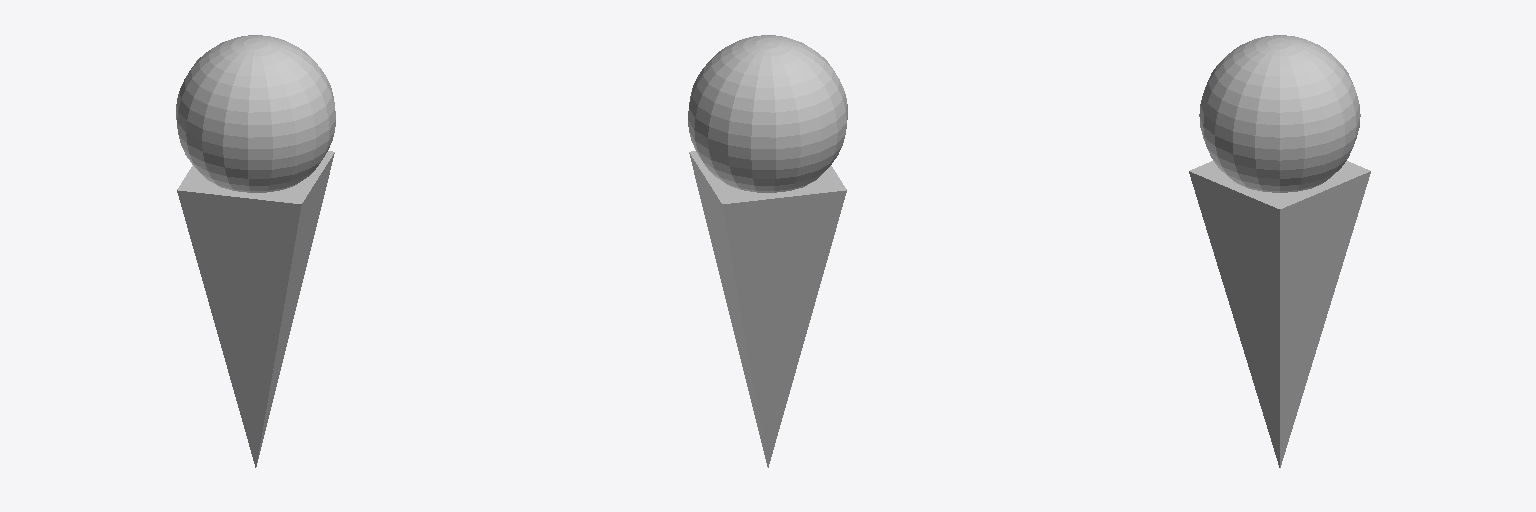
File: collectible.obj
3 views of the same model, side by side, from view 1: azimuth 30°, elevation 25°; view 2: azimuth 150°, elevation 25°; view 3: azimuth 270°, elevation 25° (orthographic).
Visible parts, largest first — view 1: pSphere2; view 2: pSphere2; view 3: pSphere2.
Part boxes in pixels (x1,y1,x2,y2): pSphere2: (176,35,335,467); pSphere2: (688,35,847,467); pSphere2: (1189,35,1370,467).
Bounding box in the file's own units: 0.8795 × 2.27 × 0.8796.